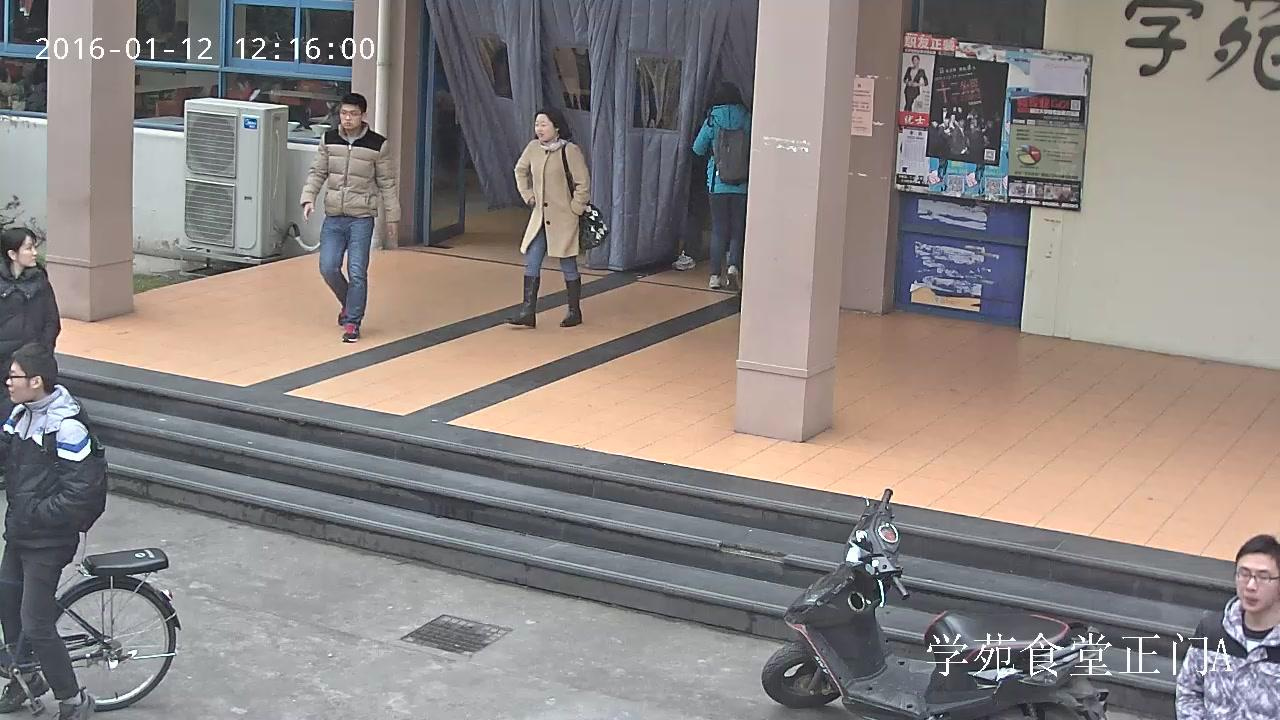person: (0, 341, 180, 720), (0, 342, 108, 720), (300, 94, 400, 342), (509, 106, 609, 327), (1174, 535, 1280, 720), (0, 227, 61, 489), (691, 82, 750, 288), (903, 55, 928, 112)
